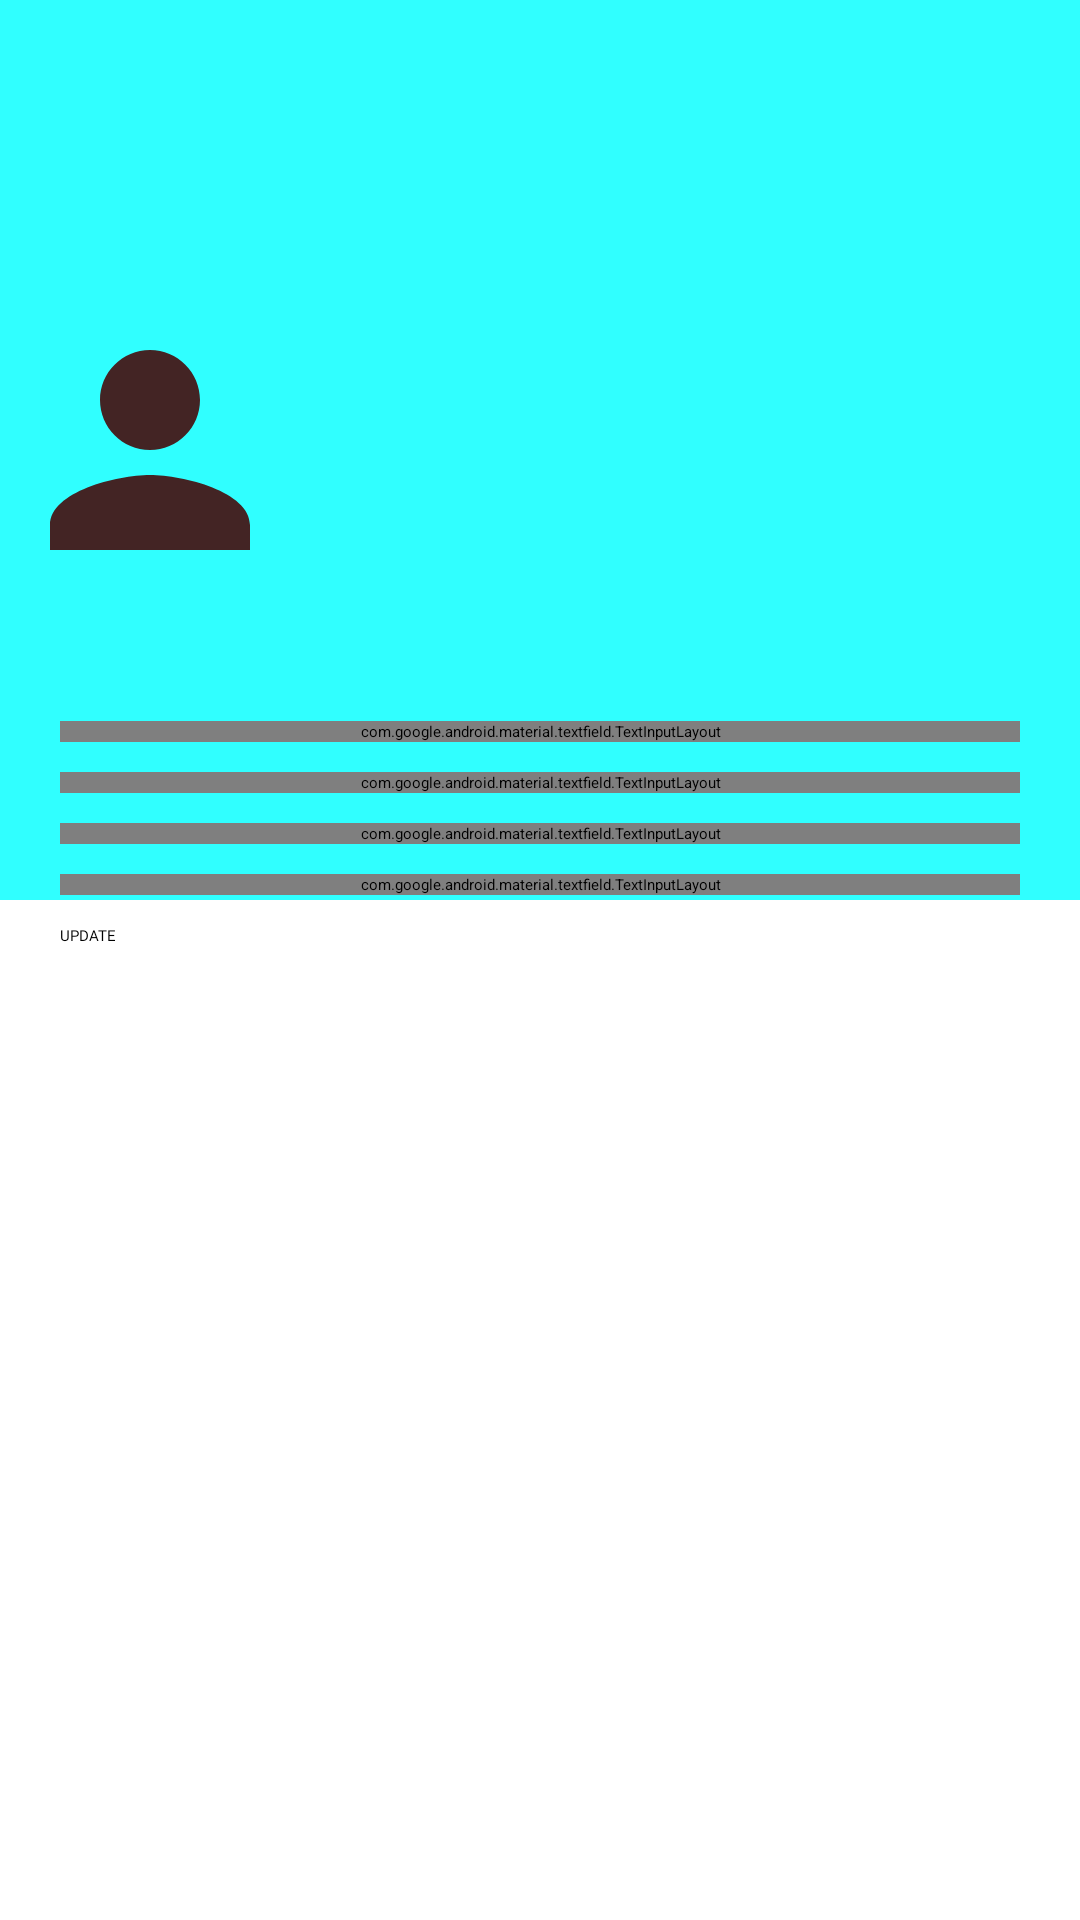

Icons on this 1080w x 1920h Android screen, each with its box as (x1, y1, x2, y2):
person: (50, 350, 250, 550)
